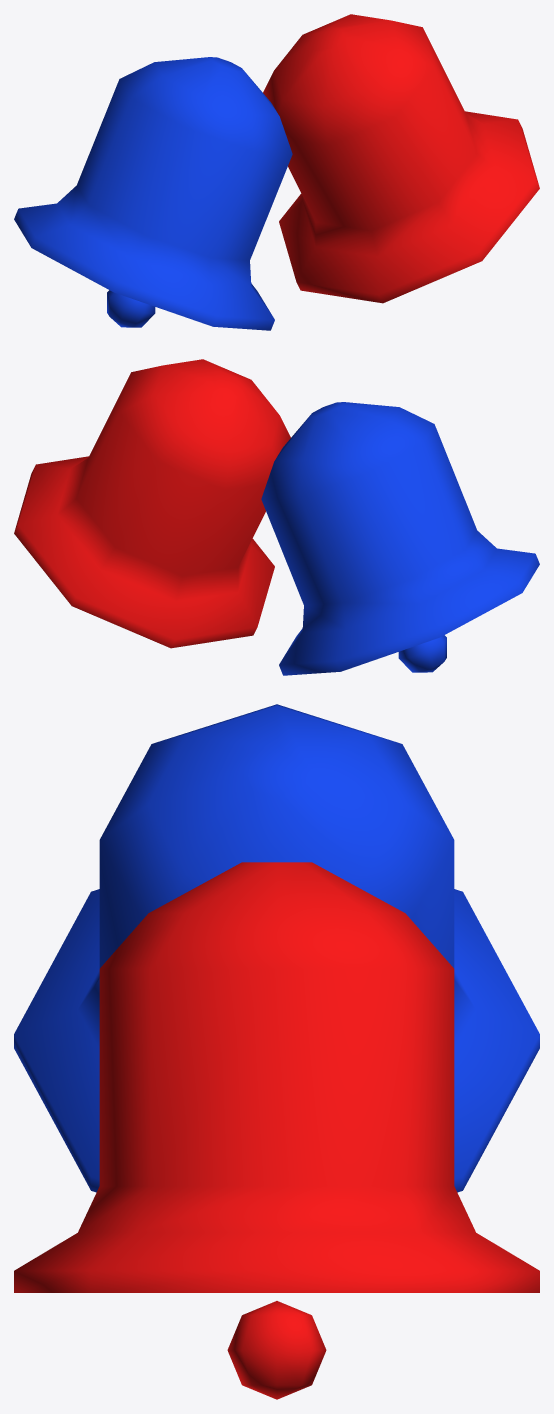
The model's file is belt.FBX.
3 renders of one model, top to bottom at view 1: azimuth 30°, elevation 25°; view 2: azimuth 150°, elevation 25°; view 3: azimuth 270°, elevation 25°, orthographic. The views are drawn at different scales.
Parts seen in each view (by area): view 1: Object433; view 2: Object433; view 3: Object433.
Part boxes in pixels (x1,y1,x2,y2): Object433: (14,14,539,330); Object433: (14,359,539,675); Object433: (14,704,539,1399).
Bounding box in the file's own units: 0.8827 × 0.4317 × 0.44.
